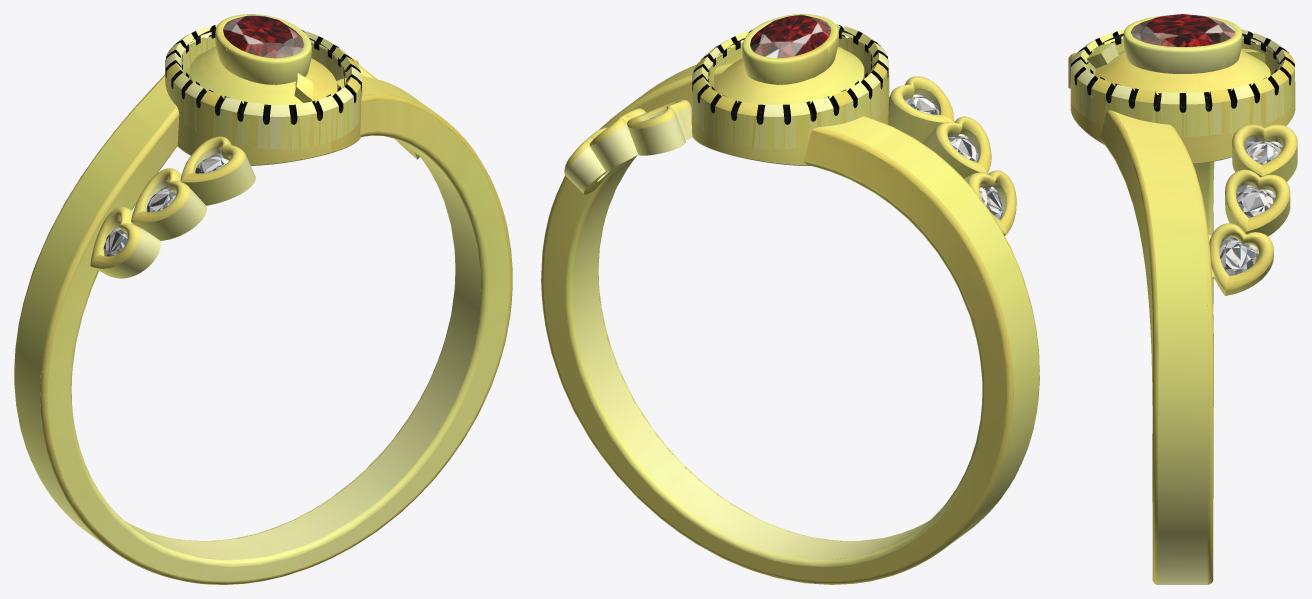
File: ring4.glb
3 renders of one model, left to right at view 1: azimuth 30°, elevation 25°; view 2: azimuth 150°, elevation 25°; view 3: azimuth 270°, elevation 25°, orthographic.
Parts seen in each view (by area): view 1: body, core, black, diamond_stones; view 2: body, core, black, diamond_stones; view 3: body, diamond_stones, core, black.
Part boxes in pixels (x1=…): body: x1=14, y1=14, x2=512, y2=584; core: x1=223, y1=14, x2=303, y2=58; black: x1=165, y1=25, x2=361, y2=124; diamond_stones: x1=103, y1=153, x2=228, y2=256; body: x1=541, y1=14, x2=1039, y2=584; core: x1=750, y1=14, x2=830, y2=58; black: x1=692, y1=25, x2=888, y2=124; diamond_stones: x1=604, y1=94, x2=1003, y2=219; body: x1=1068, y1=15, x2=1297, y2=584; diamond_stones: x1=1219, y1=140, x2=1283, y2=275; core: x1=1131, y1=14, x2=1234, y2=46; black: x1=1071, y1=31, x2=1294, y2=112.
Bounding box in the file's own units: 29.41 × 32.15 × 12.48.
Materials: 4 (4 with a texture image).
